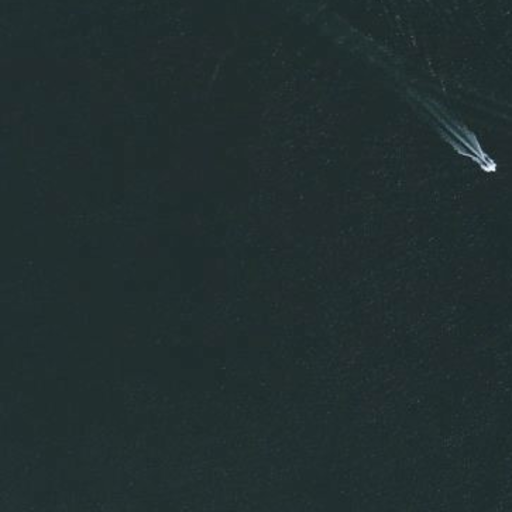ship: (476, 148, 498, 175)
